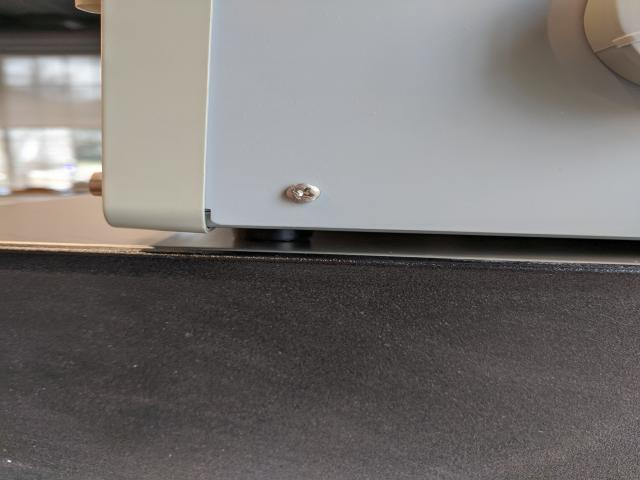CRS: (287, 183, 321, 204)
